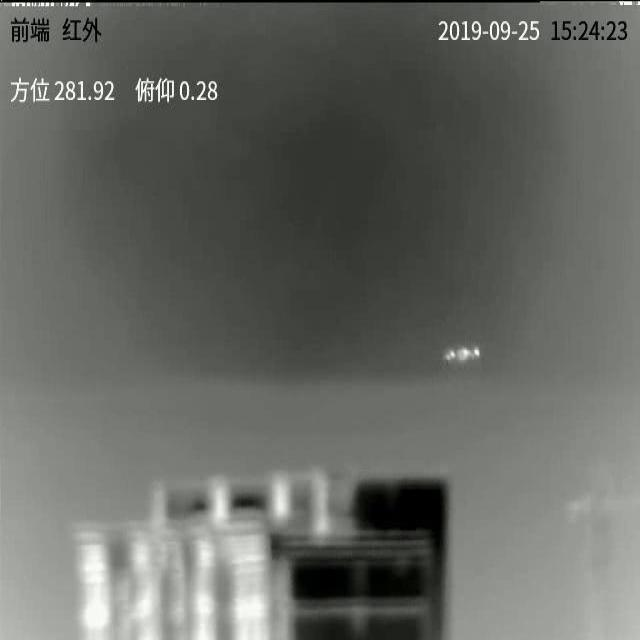drone: (445, 348, 480, 361)
